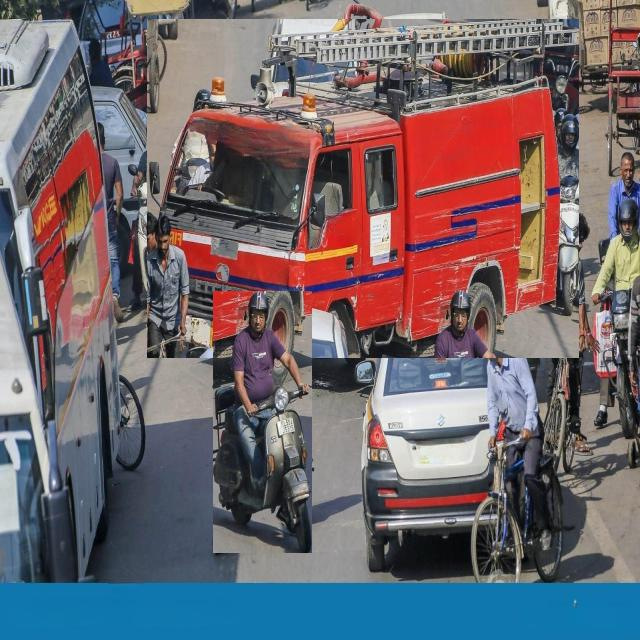bicycle: (471, 325, 562, 581), (536, 216, 586, 472)
bus: (0, 20, 121, 581)
car: (355, 305, 500, 571)
emergency: (147, 20, 579, 358)
motorcycle: (213, 292, 311, 553), (591, 202, 640, 440), (131, 115, 169, 314)
